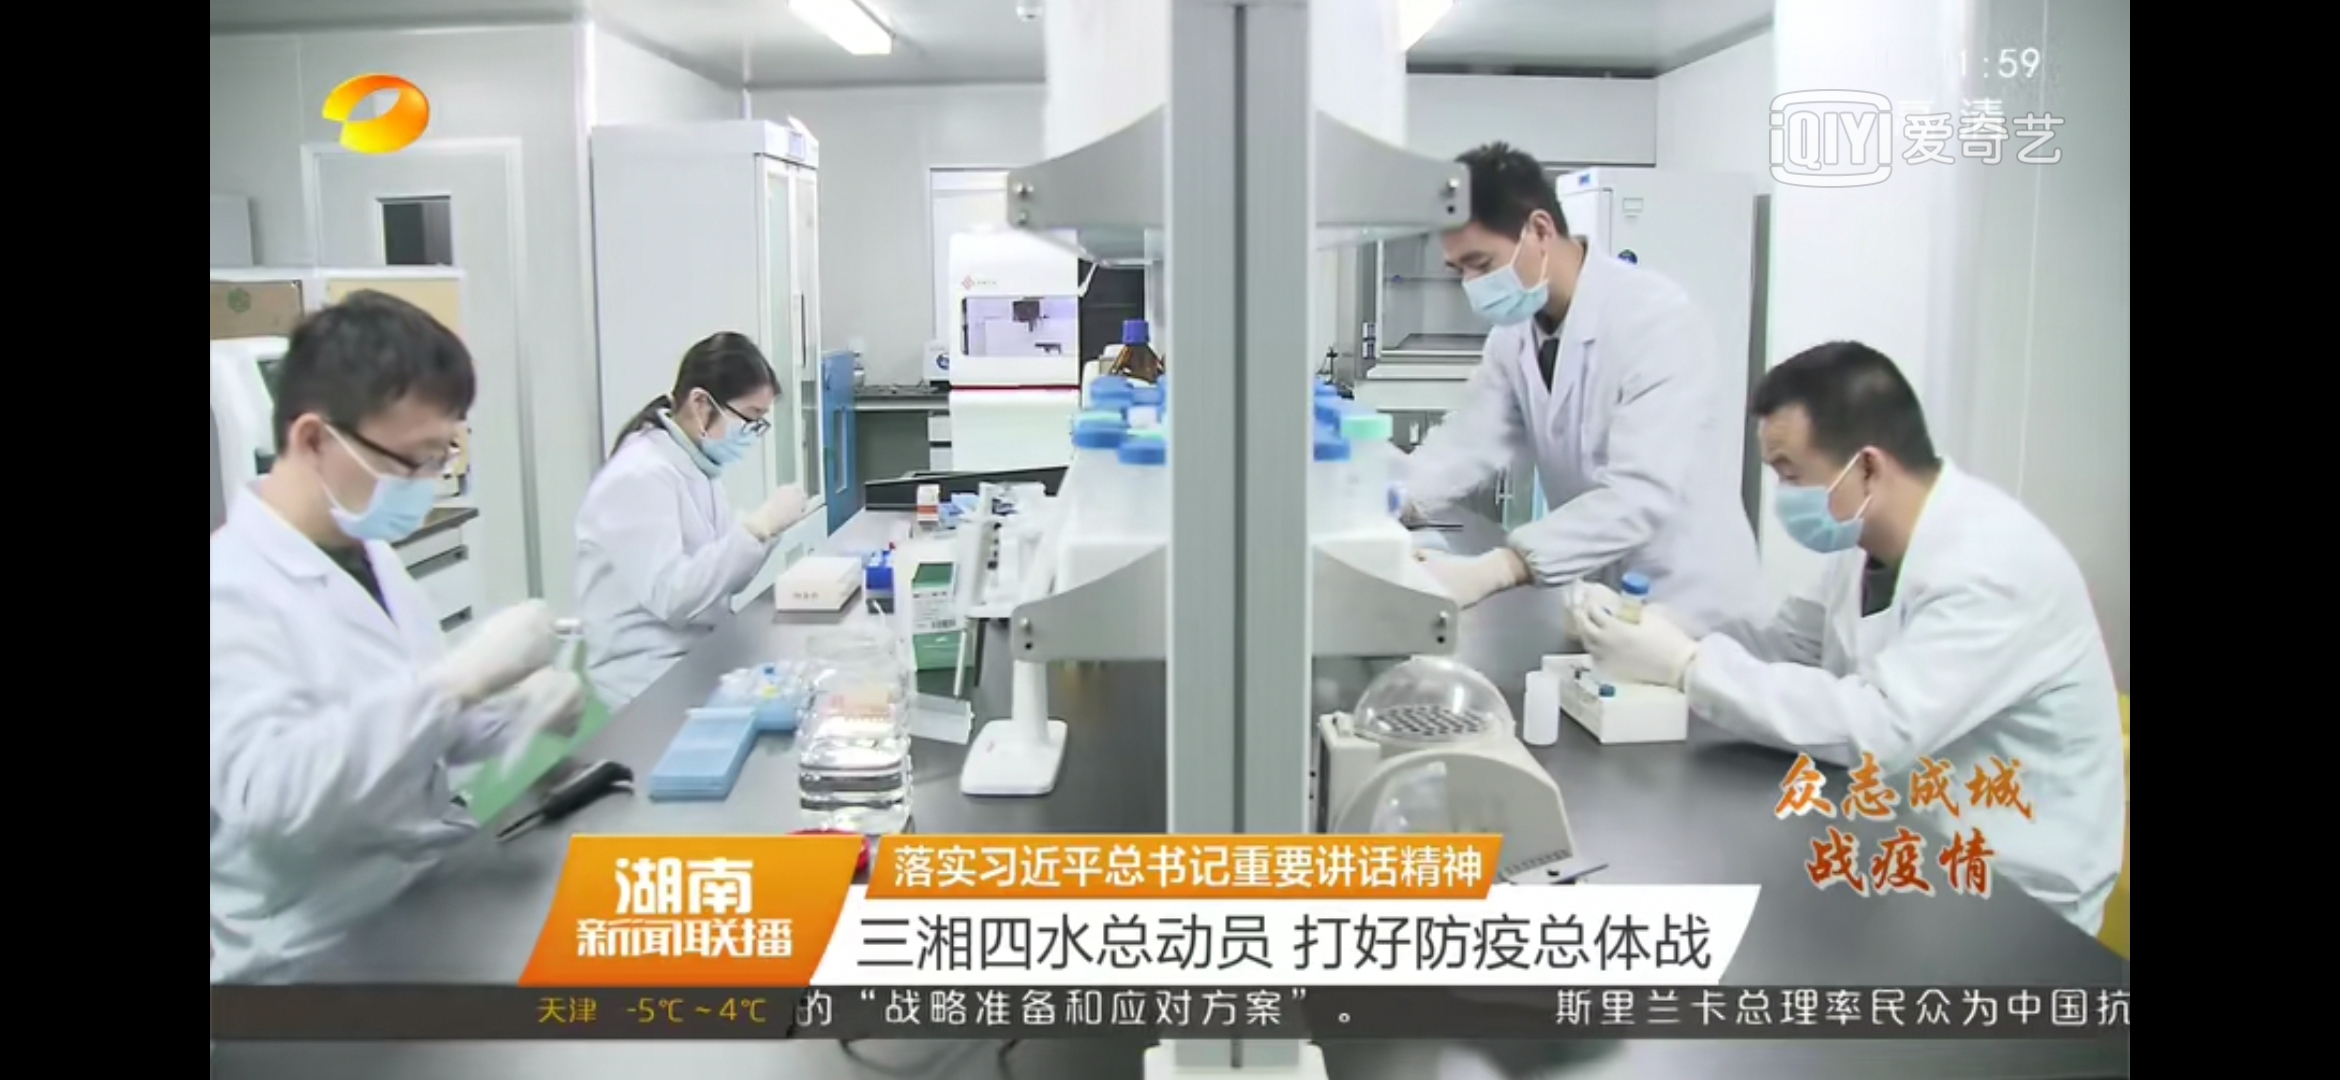correctlyWear: (287, 379, 461, 547), (1754, 430, 1927, 552), (1439, 207, 1565, 324), (683, 374, 778, 465)
